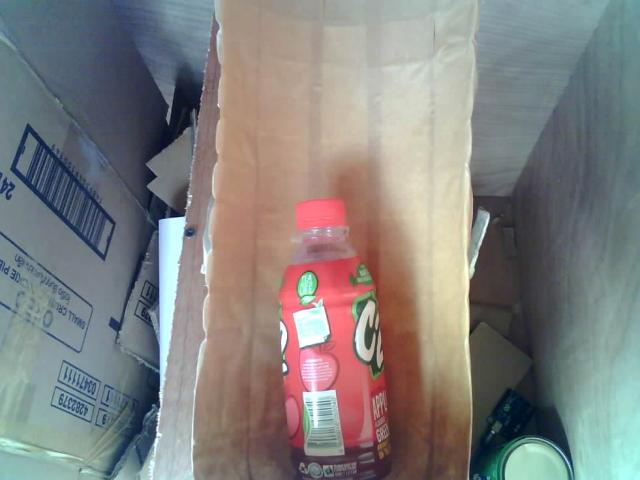small_bottle: (260, 184, 422, 480)
